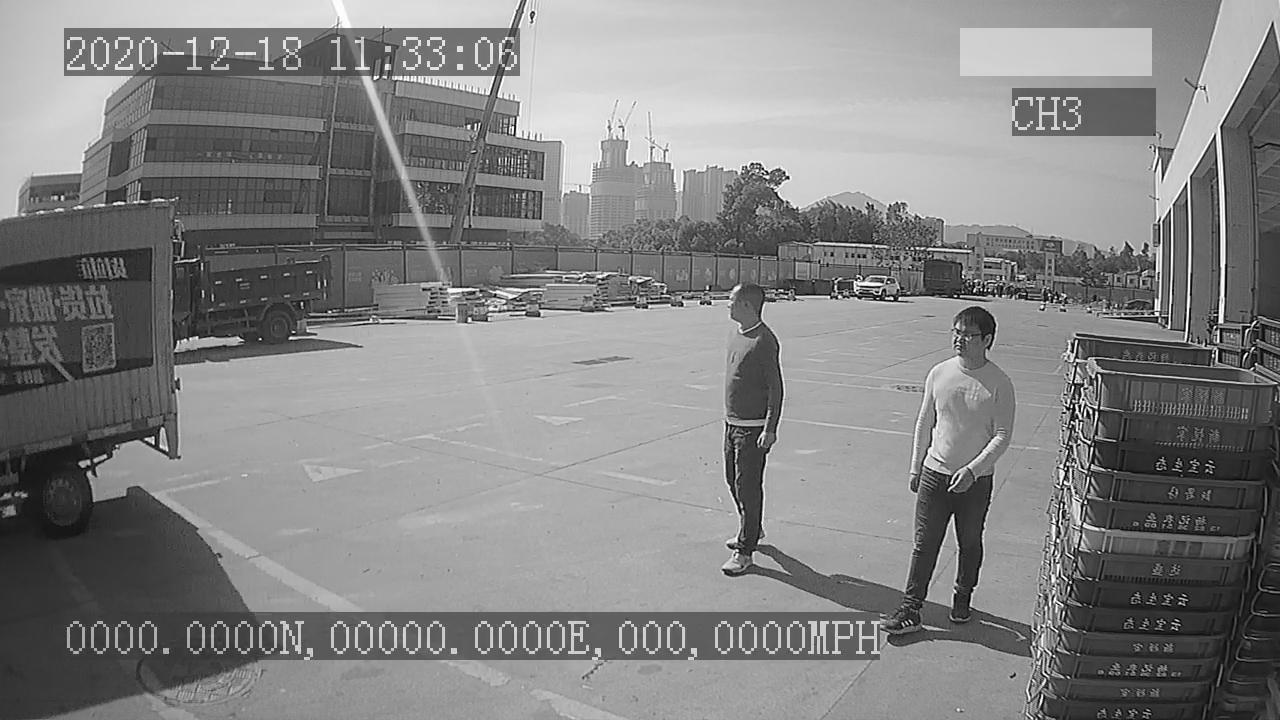person: (707, 274, 797, 575)
